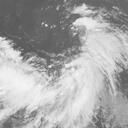cyclone: (32, 49, 89, 103)
